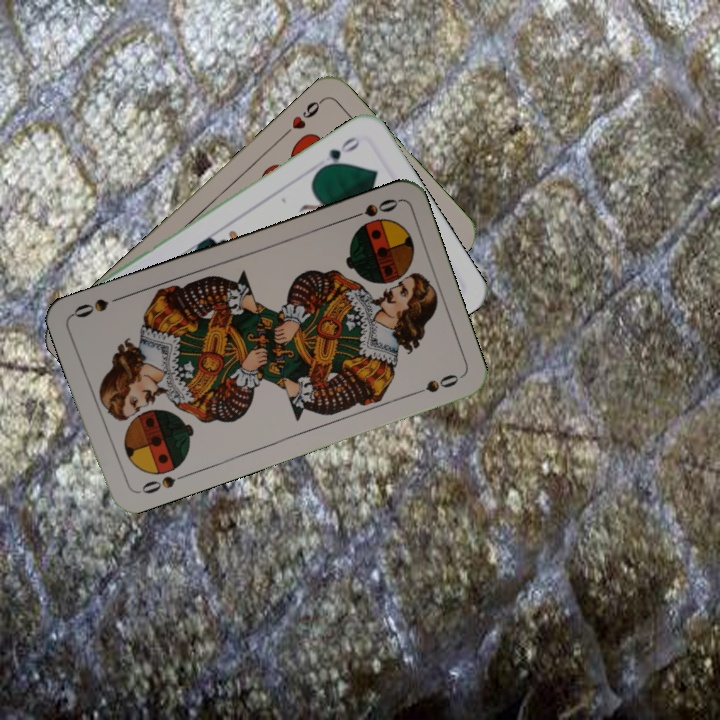GO: (314, 132, 363, 174)
H9: (279, 94, 327, 139)
SO: (343, 194, 401, 223), (132, 471, 178, 497)
